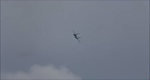maybay_muctieu: (72, 28, 81, 42)
